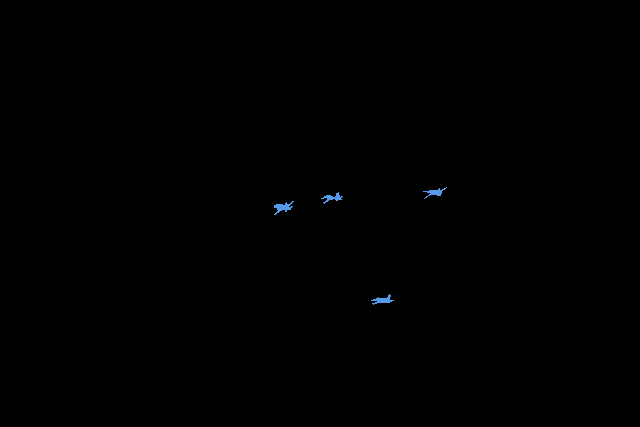Airplane: (273, 201, 293, 215), (423, 187, 446, 199), (321, 192, 342, 203), (371, 294, 394, 304)
